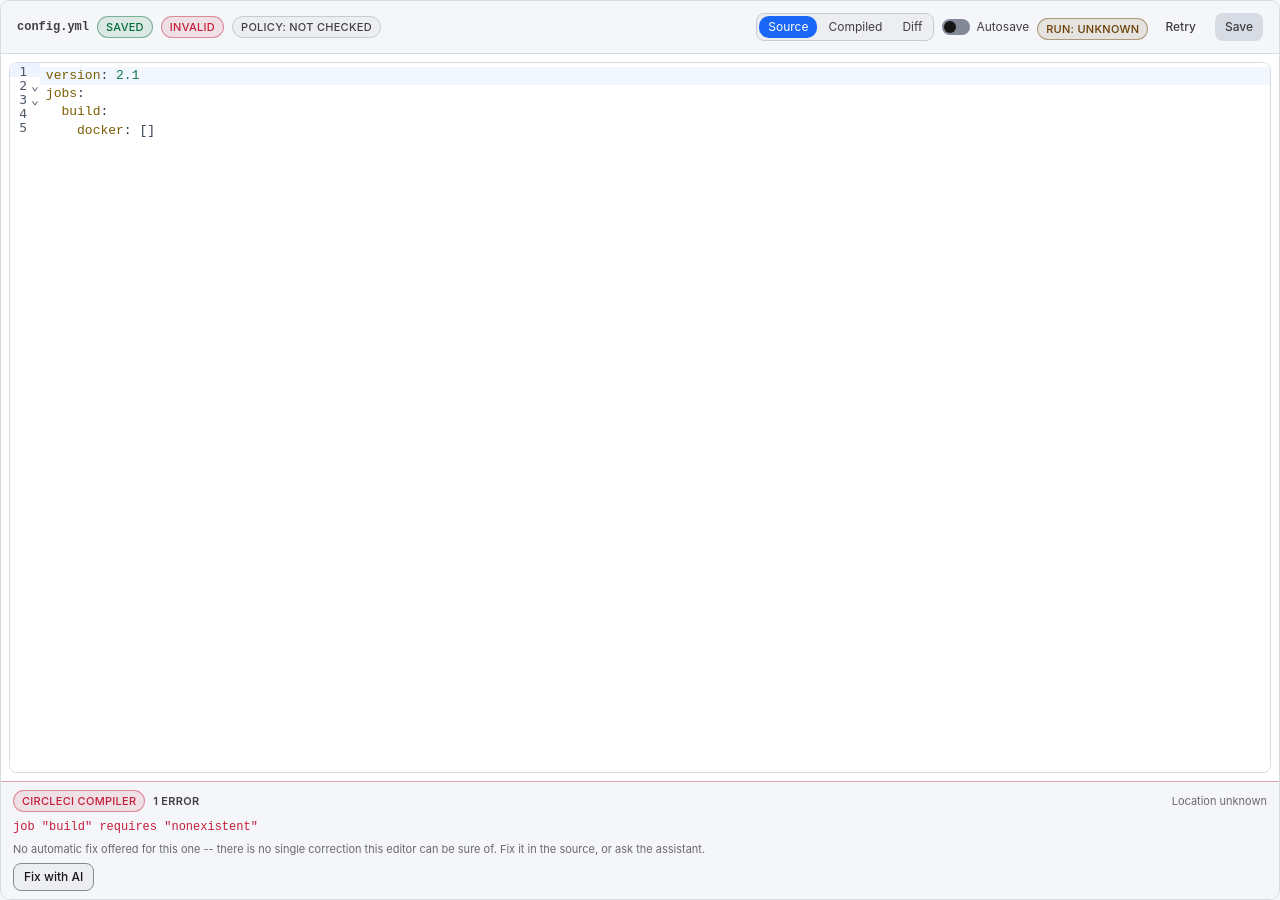
Scenario: YamlPane › explains an invalid config distinctly, pointing back at the errors below rather than claiming "unavailable"
Step 1. Click the button "Compiled" → (856, 27), box [820,16,892,38]
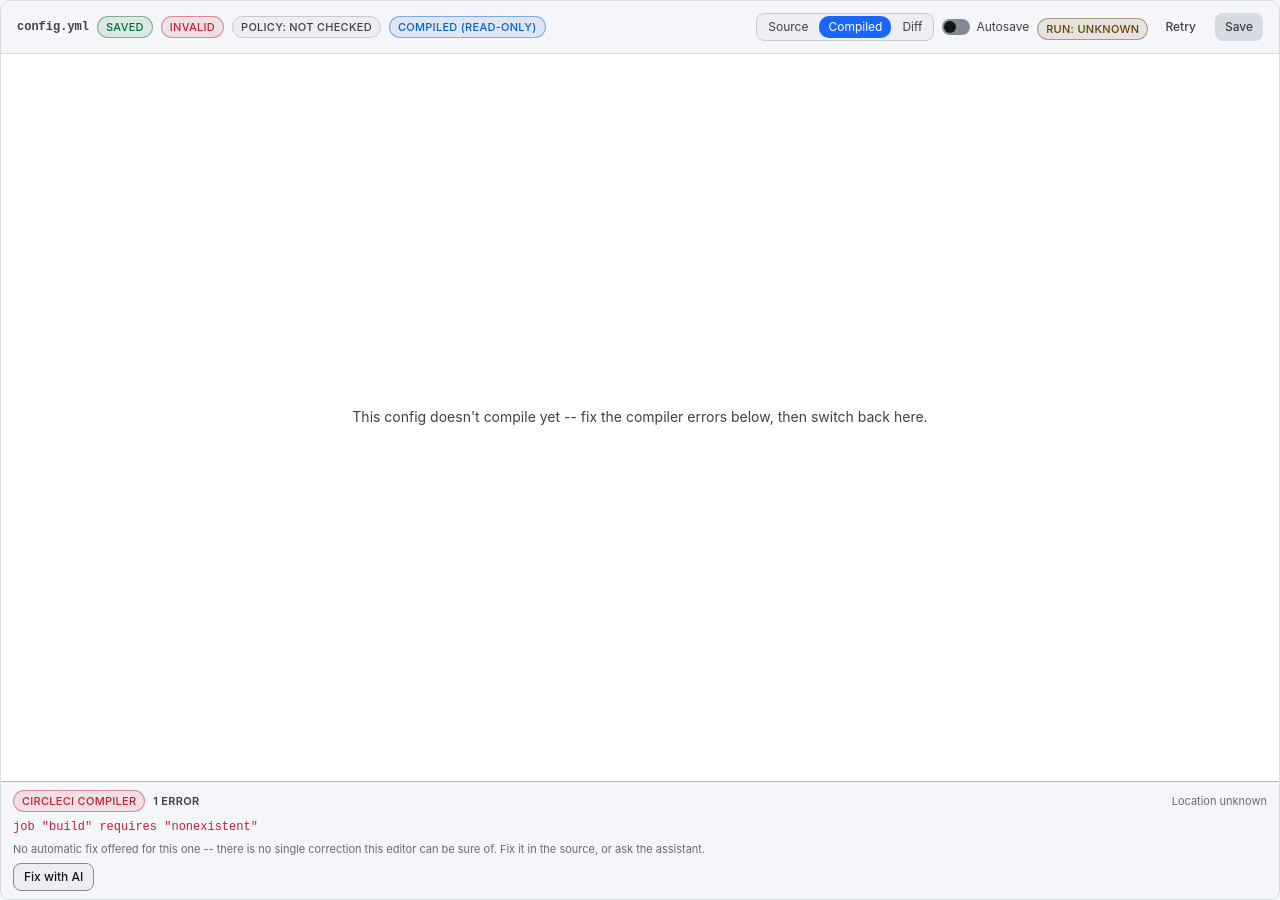
Expected: the text "job \"build\" requires \"nonexistent\"" is shown, [13,820,258,834]
Expected: the text "doesn.t compile yet" is shown, [352,408,928,425]
